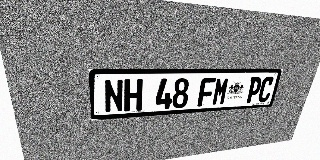4: (155, 78, 174, 109)
8: (172, 78, 190, 108)
C: (257, 77, 275, 102)
F: (197, 77, 216, 107)
H: (124, 79, 143, 112)
M: (211, 77, 230, 106)
N: (103, 79, 123, 113)
P: (245, 77, 263, 103)
